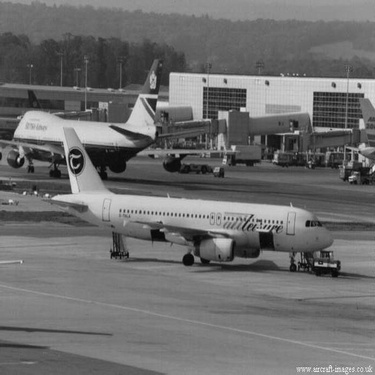airplane: (27, 125, 349, 310), (1, 60, 190, 143)
